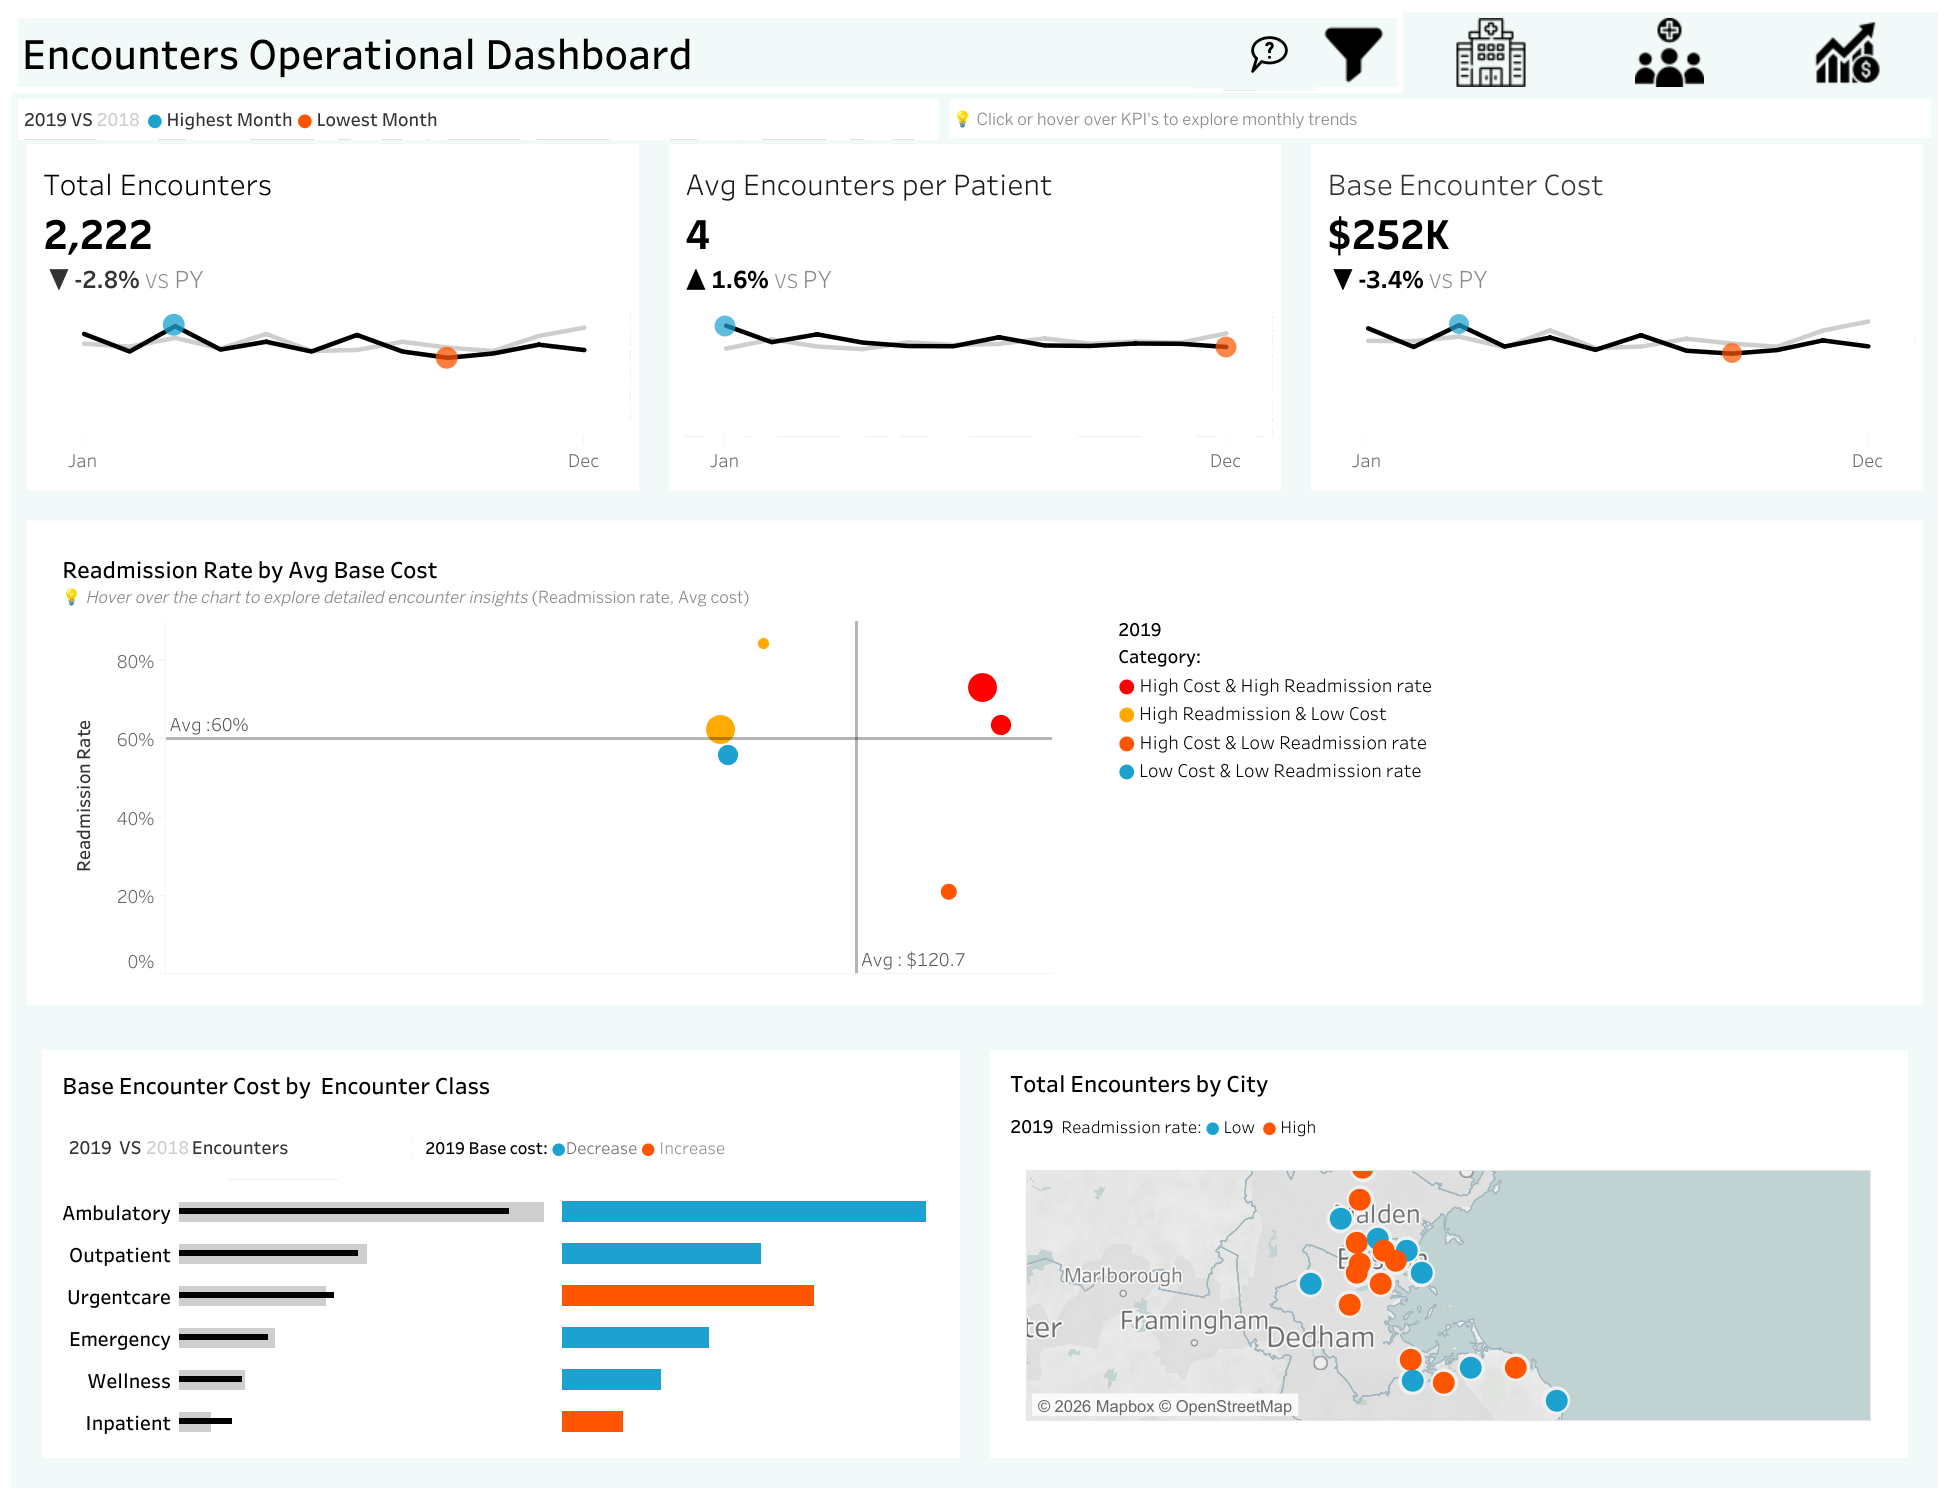

The page's visual inventory and layout, read from the dashboard file:
{"tool":"tableau","page":{"name":"Encounters Operational Dashboard","canvas":[1300,1000],"ordinal":0},"visuals":[{"type":"text","box":[8,8,927,54]},{"type":"dashboard-object","box":[935,8,119,54]},{"type":"dashboard-object","box":[1054,8,119,54]},{"type":"text","box":[1086,8,206,42]},{"type":"dashboard-object","box":[1173,8,119,54]},{"type":"dashboard-object","box":[873,13,59,45]},{"type":"worksheet","title":"Icon Encounters","mark":"Shape","rows":["Calculation_113997431509295104"],"box":[682,16,81,46]},{"type":"worksheet","title":"Patient volume insight","mark":"Text","box":[1086,50,206,41]},{"type":"worksheet","title":"Legend KPI","mark":"Automatic","box":[8,62,621,34]},{"type":"text","box":[629,62,663,34]},{"type":"worksheet","title":"Operational insight","mark":"Text","box":[1086,91,206,41]},{"type":"worksheet","title":"KPI Encounters","mark":"Automatic","rows":["Calculation_910853084914888709"],"cols":["Encounter_start_time"],"box":[8,96,428,241]},{"type":"worksheet","title":"KPI Encounters per patients","mark":"Line","rows":["Calculation_471752121962668039"],"cols":["Encounter_start_time"],"box":[436,96,428,241]},{"type":"worksheet","title":"KPI Base Encounter Cost","mark":"Line","rows":["Calculation_258675568834764802"],"cols":["Encounter_start_time"],"box":[864,96,428,241]},{"type":"worksheet","title":"Encounters insight","mark":"Text","box":[1086,132,206,41]},{"type":"blank","box":[1086,173,206,69]},{"type":"text","box":[1086,242,206,69]},{"type":"parameter","param":"[Parameters].[Parameter 1]","box":[1086,311,206,69]},{"type":"text","box":[35,364,670,84]},{"type":"text","box":[739,364,526,203]},{"type":"filter","title":"Base encounter cost by Encounter class","param":"[federated.0diqimf0krdboo14h8w6v06q0hld].[none:Encounter_class:nk]","box":[1086,380,206,68]},{"type":"worksheet","title":"Readmission rate by Avg Base cost","mark":"Circle","rows":["Calculation_386183730815909899"],"cols":["Calculation_386183730779217923"],"box":[35,448,670,205]},{"type":"blank","box":[1086,448,206,68]},{"type":"text","box":[1086,516,206,68]},{"type":"filter","title":"Base encounter cost by Encounter class","param":"[federated.0diqimf0krdboo14h8w6v06q0hld].[none:Race:nk]","box":[1086,584,206,68]},{"type":"filter","title":"Base encounter cost by Encounter class","param":"[federated.0diqimf0krdboo14h8w6v06q0hld].[none:Gender:nk]","box":[1086,652,206,68]},{"type":"text","box":[35,707,598,32]},{"type":"text","box":[667,707,598,38]},{"type":"filter","title":"Base encounter cost by Encounter class","param":"[federated.0diqimf0krdboo14h8w6v06q0hld].[none:Marital_status:nk]","box":[1086,720,206,68]},{"type":"worksheet","title":"Legend Encounters","mark":"Automatic","box":[35,739,242,50]},{"type":"text","box":[277,739,305,50]},{"type":"text","box":[667,745,598,33]},{"type":"worksheet","title":"Encounters by City","mark":"Circle","box":[667,778,598,187]},{"type":"filter","title":"Base encounter cost by Encounter class","param":"[federated.0diqimf0krdboo14h8w6v06q0hld].[none:County:nk]","box":[1086,788,206,68]},{"type":"worksheet","title":"Base encounter cost by Encounter class","mark":"Bar","rows":["Encounter_class"],"cols":["Calculation_910853084913811459","Calculation_910853084913545218","Calculation_386183730778050561"],"box":[35,789,598,176]},{"type":"filter","title":"Base encounter cost by Encounter class","param":"[federated.0diqimf0krdboo14h8w6v06q0hld].[none:City:nk]","box":[1086,856,206,68]},{"type":"filter","title":"Readmission rate by Avg Base cost","param":"[federated.0diqimf0krdboo14h8w6v06q0hld].[usr:Calculation_386183730824921103:nk:","box":[1086,924,206,68]}]}

Visuals, with their boxes in screenshot pixels (x1, y1, x2, y2), scaled from the page's 1300x1000 canvas onto the 1949x1499 screenshot:
text: 12:12:1402:93
dashboard-object: 1402:12:1580:93
dashboard-object: 1580:12:1759:93
text: 1628:12:1937:75
dashboard-object: 1759:12:1937:93
dashboard-object: 1309:19:1397:87
"Icon Encounters" worksheet (Shape marks): 1022:24:1144:93
"Patient volume insight" worksheet (Text marks): 1628:75:1937:136
"Legend KPI" worksheet: 12:93:943:144
text: 943:93:1937:144
"Operational insight" worksheet (Text marks): 1628:136:1937:198
"KPI Encounters" worksheet: 12:144:654:505
"KPI Encounters per patients" worksheet (Line marks): 654:144:1295:505
"KPI Base Encounter Cost" worksheet (Line marks): 1295:144:1937:505
"Encounters insight" worksheet (Text marks): 1628:198:1937:259
blank: 1628:259:1937:363
text: 1628:363:1937:466
parameter: 1628:466:1937:570
text: 52:546:1057:672
text: 1108:546:1897:850
"Base encounter cost by Encounter class" filter: 1628:570:1937:672
"Readmission rate by Avg Base cost" worksheet (Circle marks): 52:672:1057:979
blank: 1628:672:1937:773
text: 1628:773:1937:875
"Base encounter cost by Encounter class" filter: 1628:875:1937:977
"Base encounter cost by Encounter class" filter: 1628:977:1937:1079
text: 52:1060:949:1108
text: 1000:1060:1897:1117
"Base encounter cost by Encounter class" filter: 1628:1079:1937:1181
"Legend Encounters" worksheet: 52:1108:415:1183
text: 415:1108:873:1183
text: 1000:1117:1897:1166
"Encounters by City" worksheet (Circle marks): 1000:1166:1897:1447
"Base encounter cost by Encounter class" filter: 1628:1181:1937:1283
"Base encounter cost by Encounter class" worksheet (Bar marks): 52:1183:949:1447
"Base encounter cost by Encounter class" filter: 1628:1283:1937:1385
"Readmission rate by Avg Base cost" filter: 1628:1385:1937:1487
